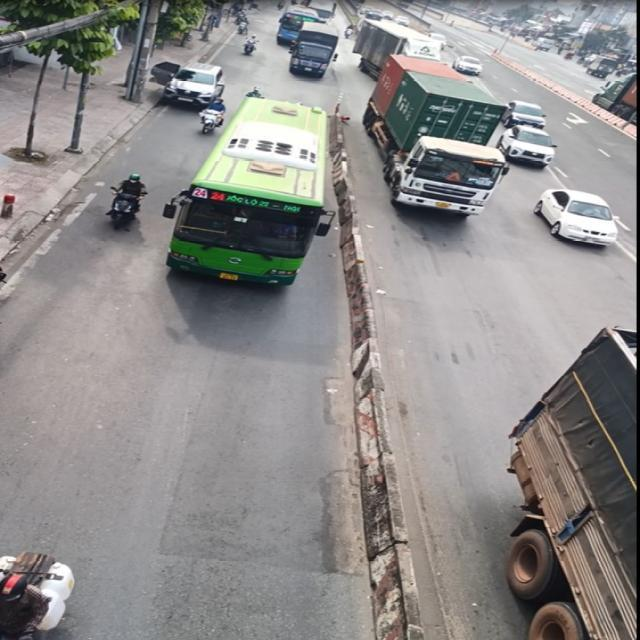bus: (161, 94, 333, 287)
car: (533, 188, 618, 247)
container-truck: (359, 52, 511, 230)
motorcycle: (105, 184, 147, 230)
truck: (504, 325, 638, 639)
